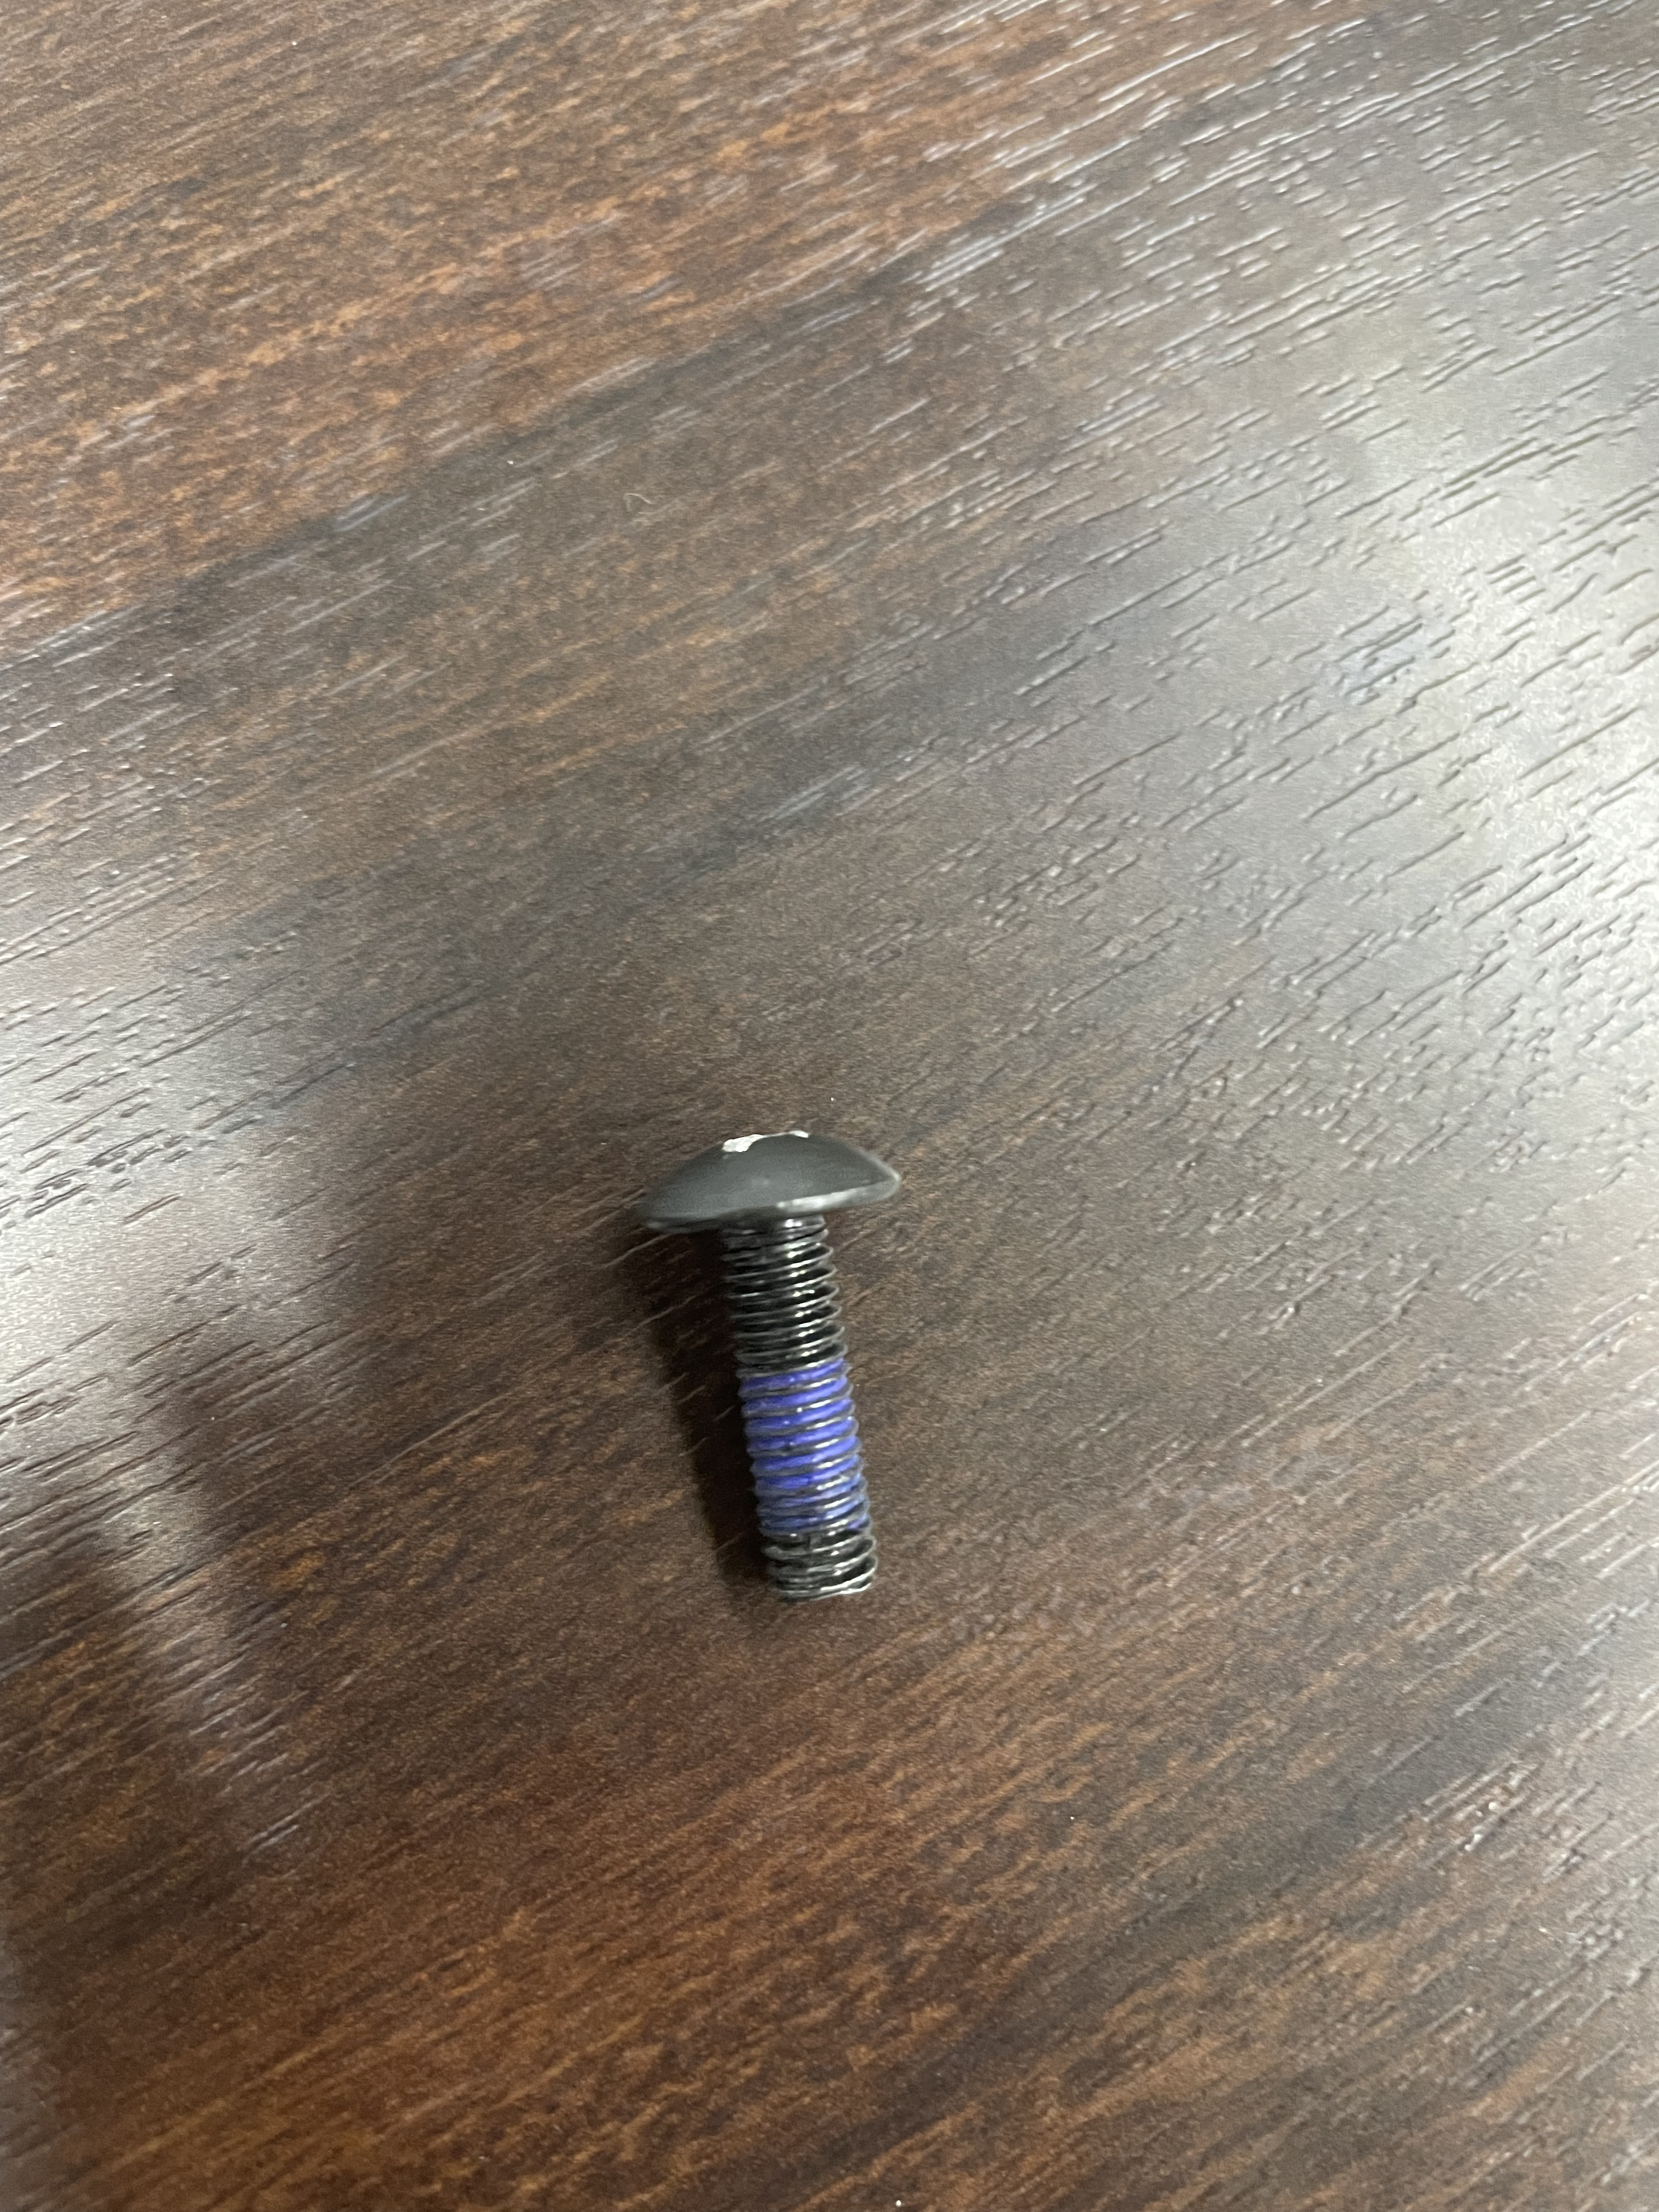screw1: (631, 1126, 905, 1607)
